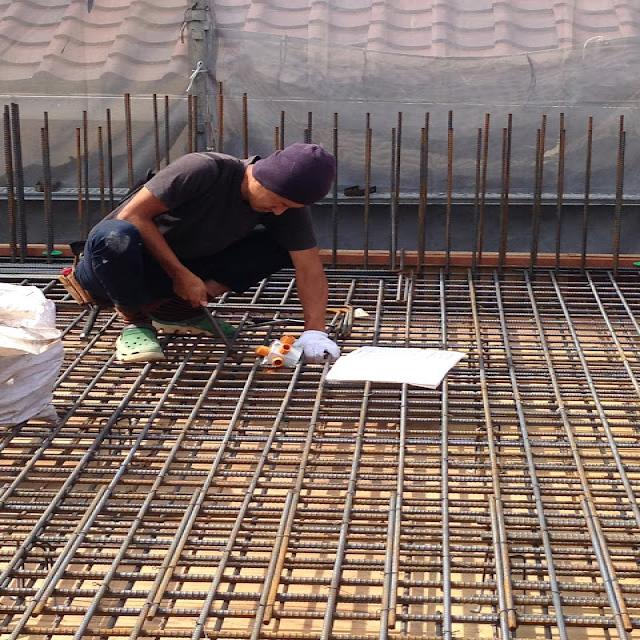gloves: (112, 317, 171, 369), (288, 322, 342, 360)
no_gloves: (168, 265, 210, 310)
no_hardhat: (236, 140, 338, 221)
no_vest: (90, 153, 319, 270)
person: (72, 141, 348, 377)
